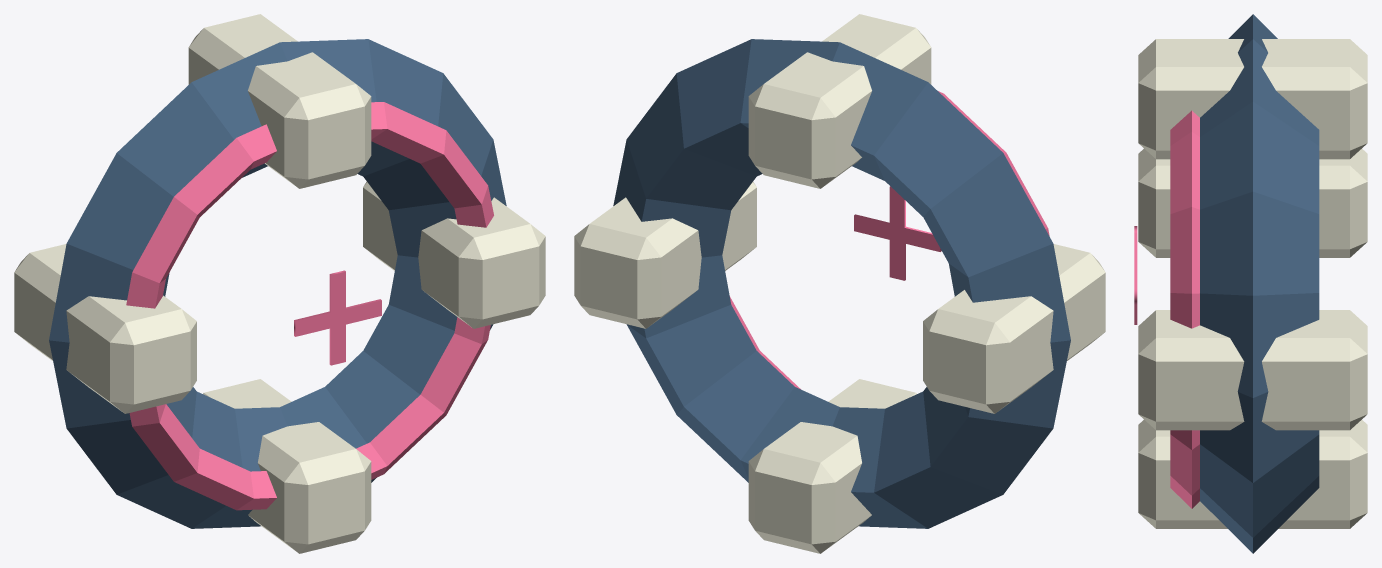
File: enlarge_ring.glb
3 renders of one model, left to right at view 1: azimuth 30°, elevation 25°; view 2: azimuth 150°, elevation 25°; view 3: azimuth 270°, elevation 25°, orthographic.
Visible parts, largest first — view 1: Space gate.001, Active rim.001, Field coil.006, Field coil.005, Field coil.004, Field coil.007, Space glyph.001; view 2: Space gate.001, Field coil.006, Field coil.005, Field coil.004, Field coil.007, Space glyph.001, Active rim.001; view 3: Space gate.001, Field coil.004, Field coil.005, Field coil.007, Active rim.001, Field coil.006, Space glyph.001.
Part boxes in pixels (x1,y1,x2,y2): Space gate.001: [49, 39, 506, 528]; Active rim.001: [126, 102, 493, 510]; Field coil.006: [14, 244, 196, 413]; Field coil.005: [188, 14, 371, 188]; Field coil.004: [363, 181, 545, 328]; Field coil.007: [203, 379, 371, 553]; Space glyph.001: [294, 270, 381, 365]; Space gate.001: [613, 39, 1070, 528]; Field coil.006: [923, 244, 1105, 413]; Field coil.005: [748, 14, 931, 188]; Field coil.004: [574, 181, 756, 328]; Field coil.007: [748, 379, 916, 553]; Space glyph.001: [854, 186, 941, 280]; Active rim.001: [729, 91, 1049, 389]; Space gate.001: [1200, 14, 1319, 553]; Field coil.004: [1138, 310, 1367, 430]; Field coil.005: [1138, 39, 1367, 159]; Field coil.007: [1138, 420, 1367, 528]; Active rim.001: [1170, 110, 1199, 508]; Field coil.006: [1138, 148, 1367, 257]; Space glyph.001: [1134, 226, 1137, 324].
Bounding box in the file's own units: 1.06 × 1.06 × 0.458.
